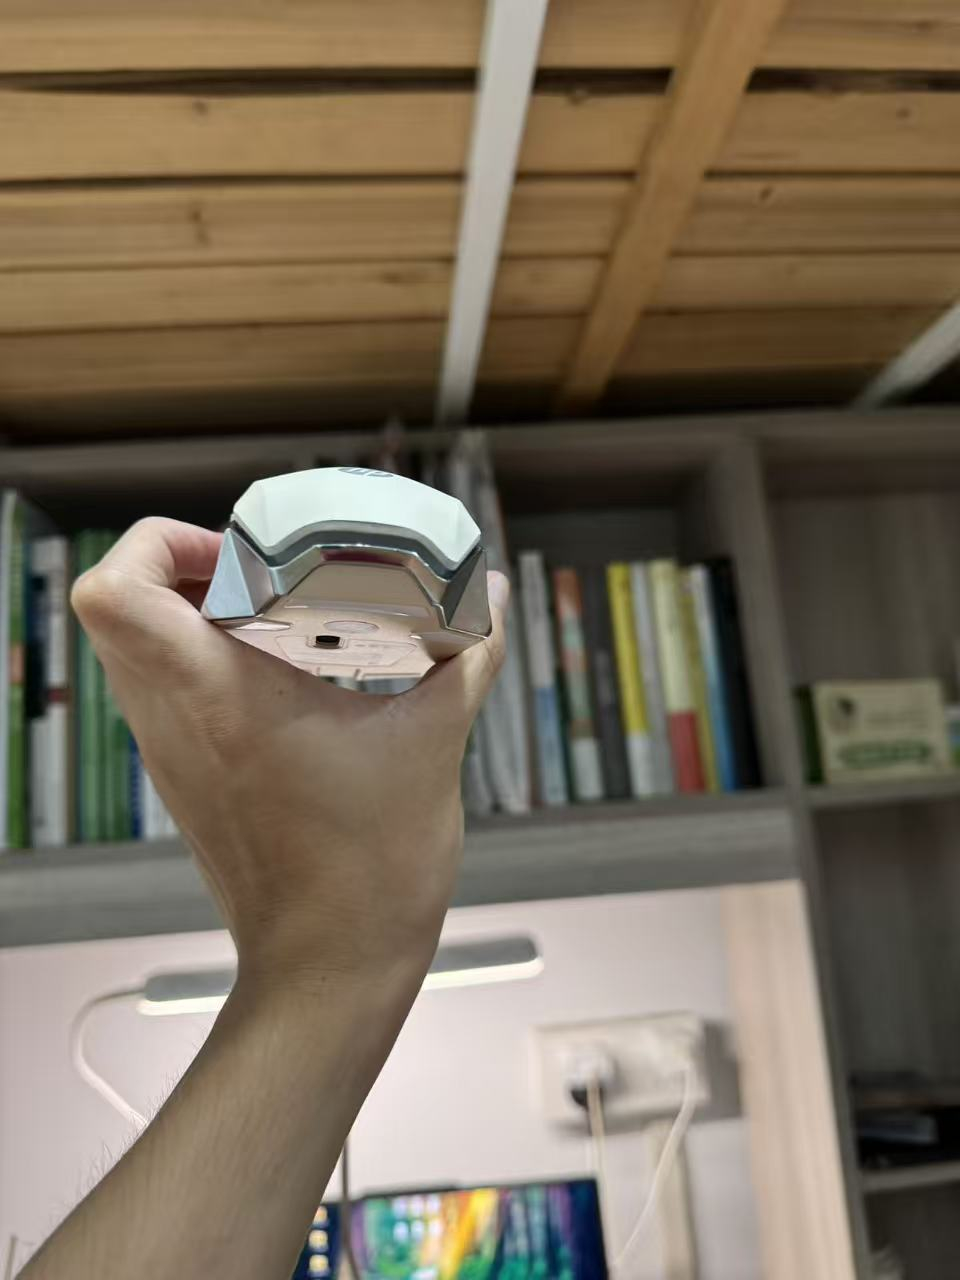mouse: (169, 444, 565, 698)
